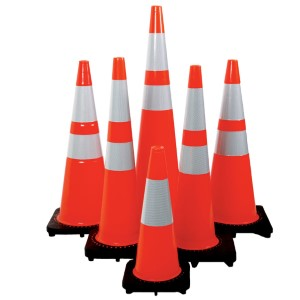traffic cone: (125, 5, 190, 238), (167, 65, 236, 270), (85, 57, 153, 263), (199, 59, 273, 239), (46, 60, 118, 237), (122, 145, 190, 296)
